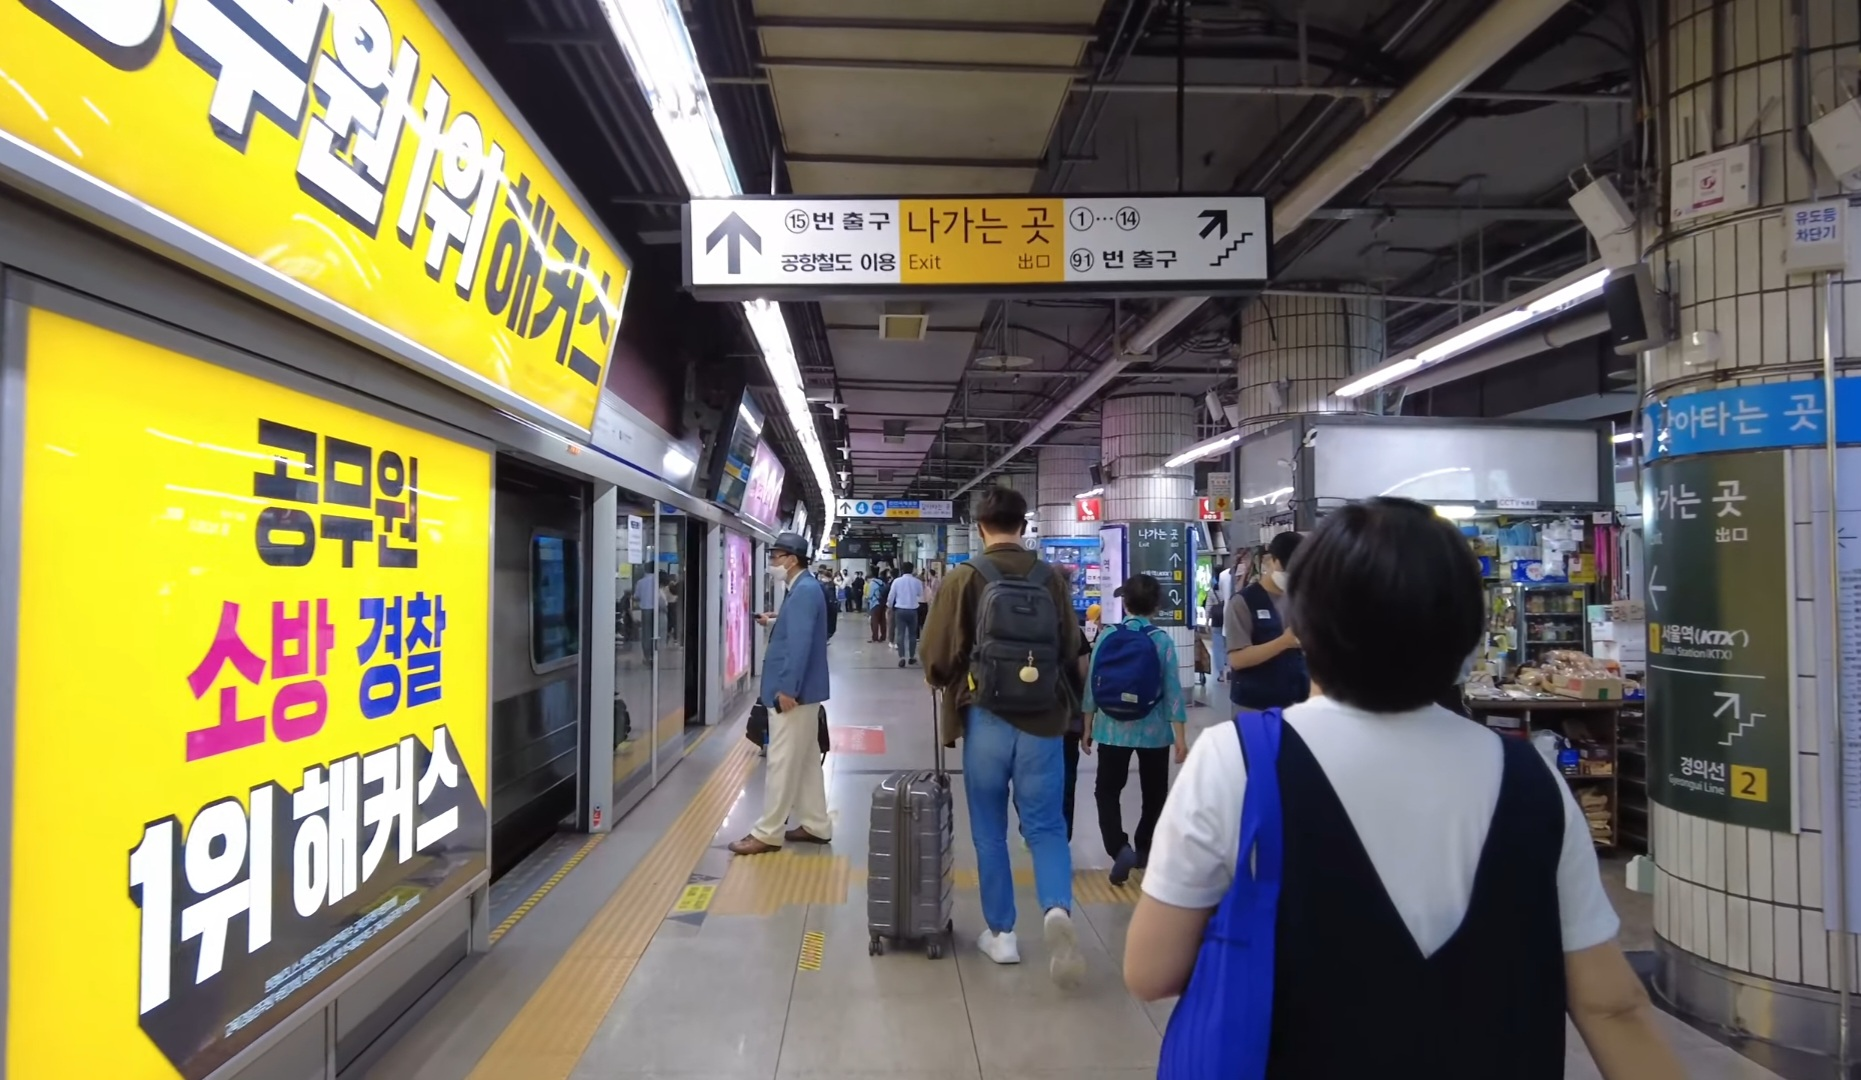signBoard: (643, 114, 1287, 311)
